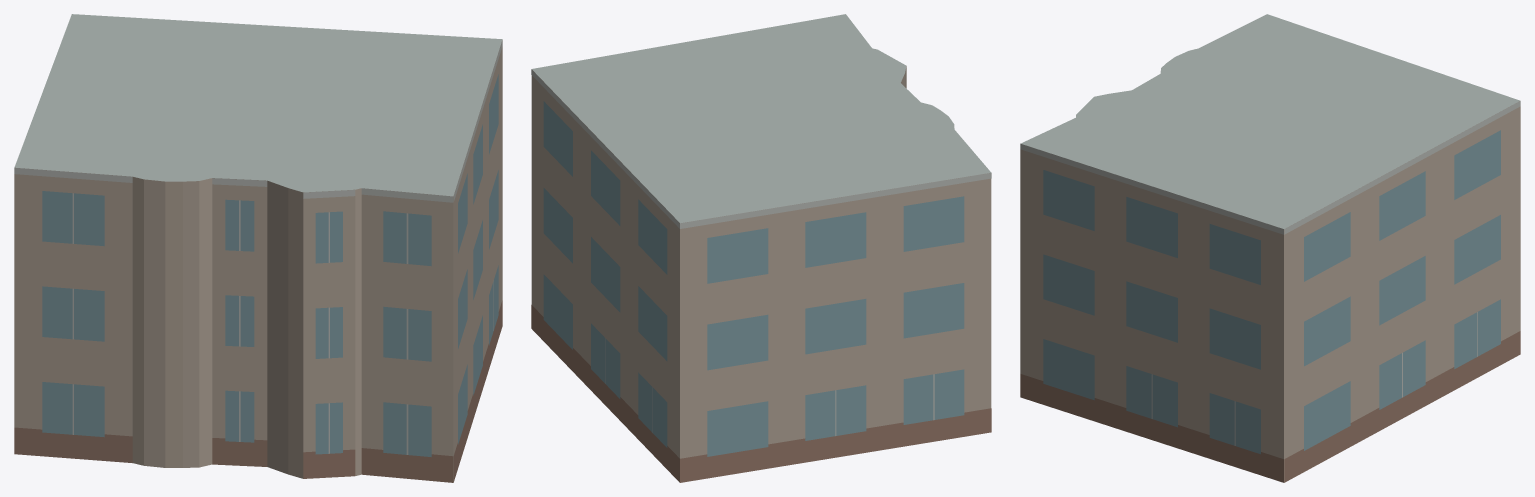
The model's file is survey-upis-32848082.glb.
The picture shows the model from 3 angles, left to right: view 1: azimuth 30°, elevation 25°; view 2: azimuth 150°, elevation 25°; view 3: azimuth 270°, elevation 25°; orthographic projection. The views are drawn at different scales.
Visible parts, largest first — view 1: survey-upis-32848082.tmp; view 2: survey-upis-32848082.tmp; view 3: survey-upis-32848082.tmp.
Boxes of the visible parts, x1=… form: survey-upis-32848082.tmp: x1=14, y1=14, x2=502, y2=482; survey-upis-32848082.tmp: x1=531, y1=14, x2=991, y2=482; survey-upis-32848082.tmp: x1=1020, y1=14, x2=1520, y2=482.
Size of the model in its own units: 19.83 by 10.9 by 19.48.
